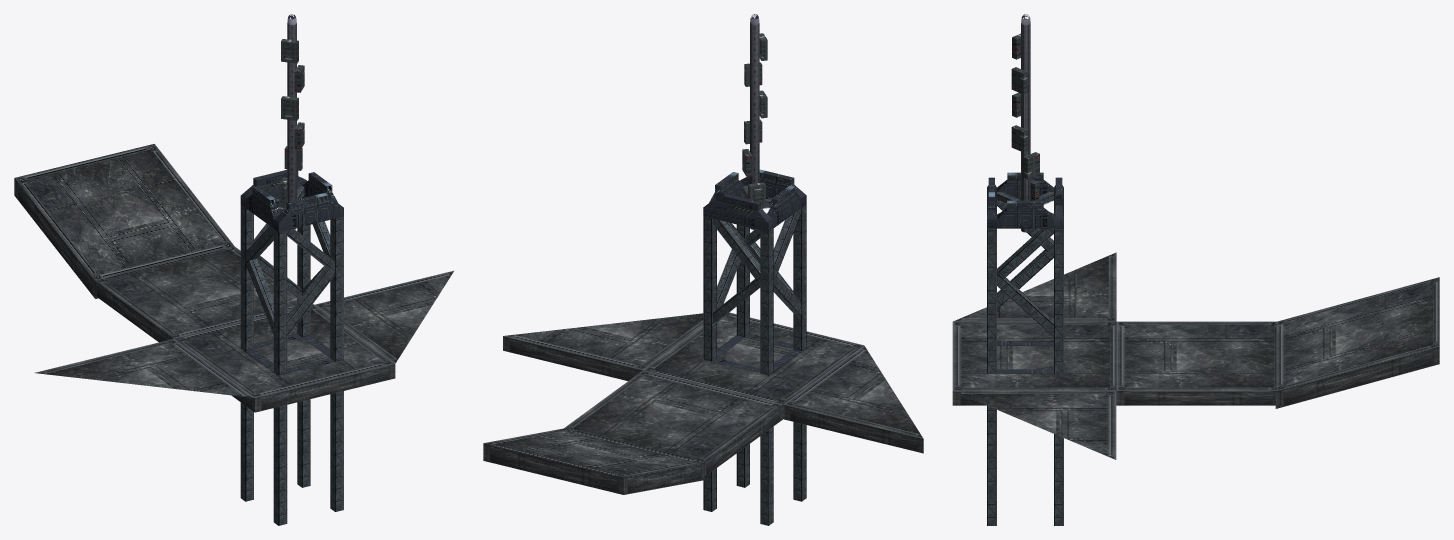
File: prop_comms_antenna.gltf
3 views of the same model, side by side, from view 1: azimuth 30°, elevation 25°; view 2: azimuth 150°, elevation 25°; view 3: azimuth 270°, elevation 25° (orthographic).
Parts seen in each view (by area): view 1: cube176, cube177, cube73, polymsh_extracted1, polymsh_extracted2, cube76, cube75, cube77, cube74, polymsh_detached25, polymsh25, polymsh72 (+6 smaller); view 2: cube73, cube176, cube177, polymsh_extracted1, polymsh_extracted2, cube77, cube76, cube74, cylinder, polymsh70, cube75, polymsh72 (+5 smaller); view 3: cube176, cube73, cube177, polymsh_extracted2, polymsh_extracted1, cube75, cube74, polymsh72, polymsh69, cylinder, polymsh71, polymsh28 (+3 smaller).
Boxes of the visible parts, <box> form: cube176: <box>14,144,234,298</box>; cube177: <box>174,304,394,412</box>; cube73: <box>95,246,313,342</box>; polymsh_extracted1: <box>34,339,254,397</box>; polymsh_extracted2: <box>314,270,453,378</box>; cube76: <box>273,229,287,525</box>; cube75: <box>330,216,343,511</box>; cube77: <box>240,205,253,501</box>; cube74: <box>297,197,310,487</box>; polymsh_detached25: <box>273,192,343,232</box>; polymsh25: <box>287,229,334,336</box>; polymsh72: <box>245,172,338,228</box>; cube73: <box>564,370,783,476</box>; cube176: <box>483,428,704,494</box>; cube177: <box>643,312,863,404</box>; polymsh_extracted1: <box>783,345,923,453</box>; polymsh_extracted2: <box>503,313,703,380</box>; cube77: <box>760,229,773,525</box>; cube76: <box>793,205,806,501</box>; cube74: <box>703,216,716,511</box>; cylinder: <box>750,14,759,229</box>; polymsh70: <box>712,218,760,325</box>; cube75: <box>736,196,749,487</box>; polymsh72: <box>709,172,801,227</box>; cube176: <box>1275,277,1439,408</box>; cube73: <box>1116,321,1280,405</box>; cube177: <box>952,321,1116,405</box>; polymsh_extracted2: <box>953,391,1116,459</box>; polymsh_extracted1: <box>953,252,1116,321</box>; cube75: <box>987,228,996,525</box>; cube74: <box>1054,229,1063,525</box>; polymsh72: <box>997,172,1053,228</box>; polymsh69: <box>997,228,1053,336</box>; cylinder: <box>1021,14,1030,232</box>; polymsh71: <box>997,201,1053,308</box>; polymsh28: <box>1011,33,1028,94</box>.
Size of the model in its own units: 24 by 26.65 by 23.79.
Materials: 7 (7 with a texture image).
